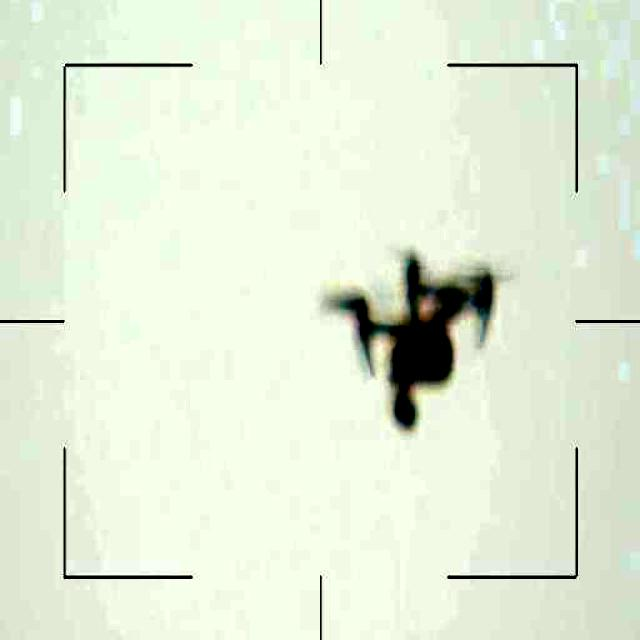bird: (338, 238, 499, 428)
